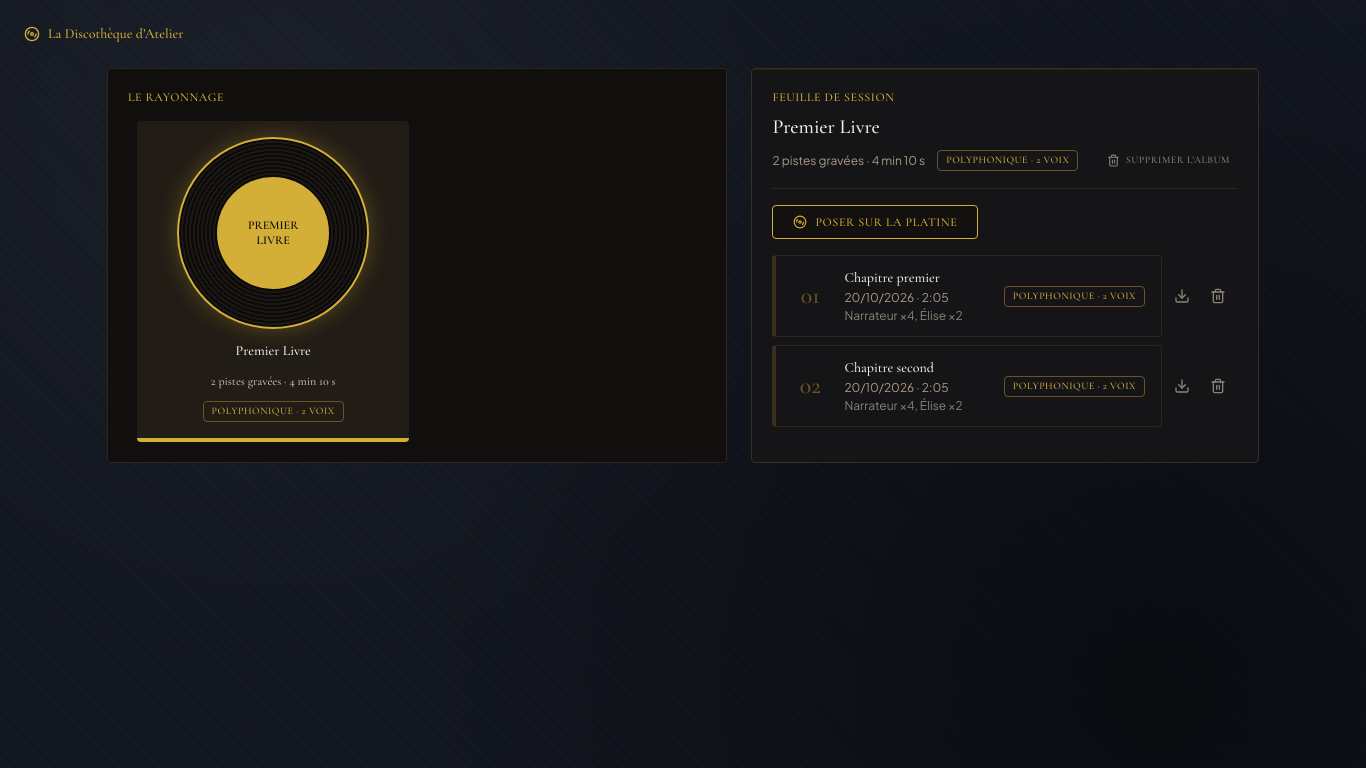
Test: DiscothequeView › suppression des enregistrements › keeps what was erased and reports the failure when the album deletion stops midway
Click the button "Supprimer l’album".
click(1168, 160)  # box x1=1099 y1=149 x2=1238 y2=172
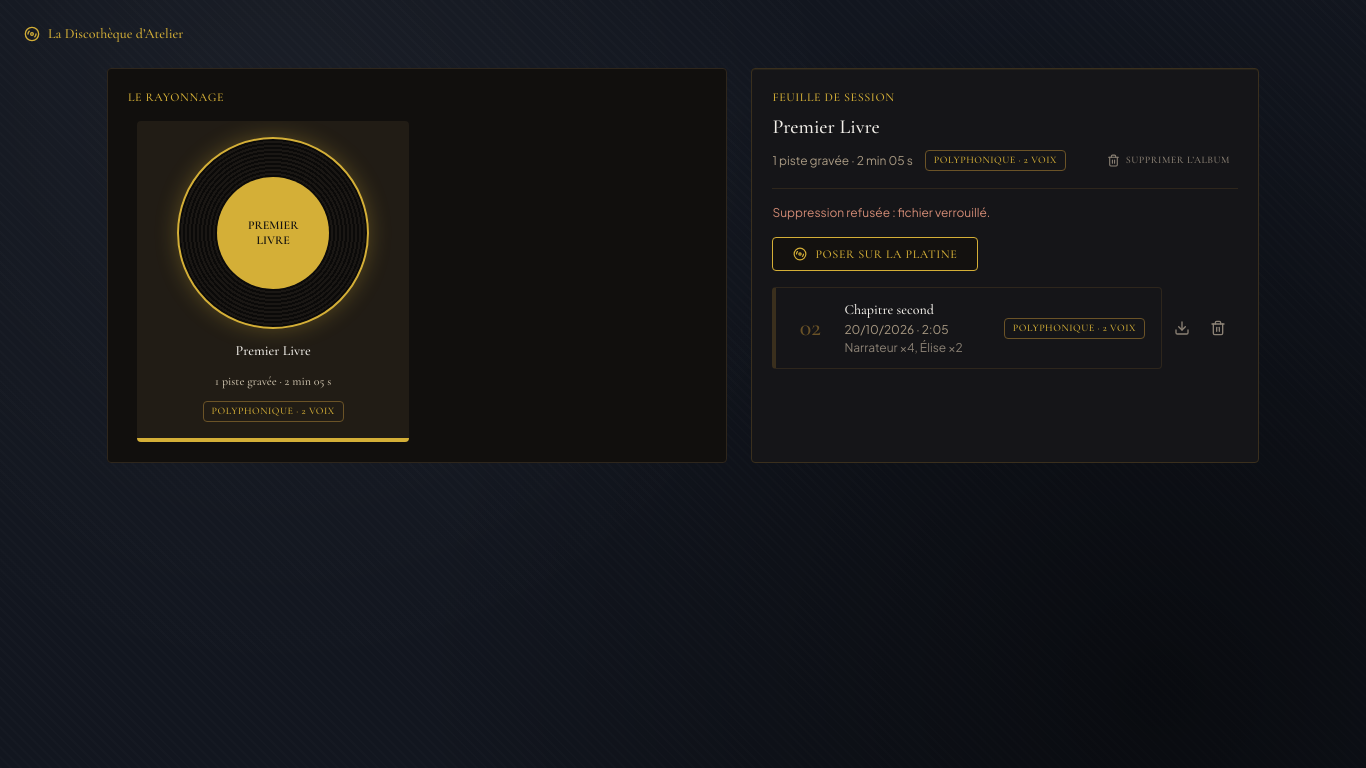
Expected: the button with aria-label "2. Chapitre second" is shown, x1=772 y1=287 x2=1162 y2=369
Now the message reads "Suppression refusée : fichier verrouillé.", box x1=772 y1=205 x2=990 y2=220
